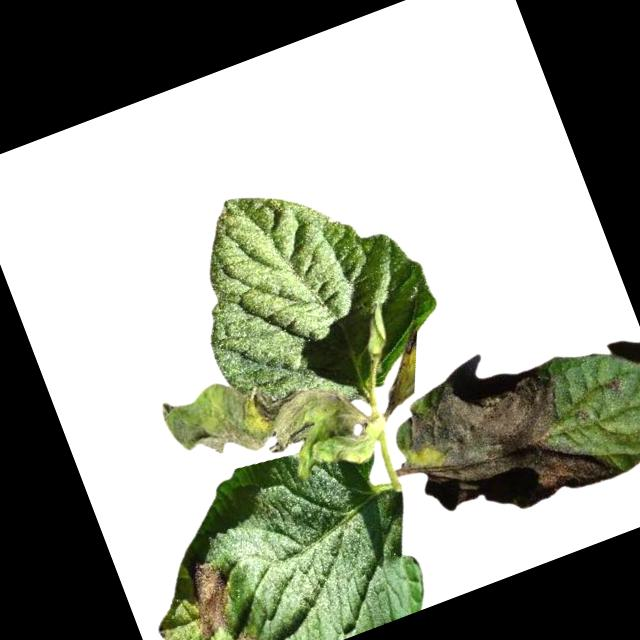Late_blight: (382, 321, 621, 542), (154, 337, 383, 526), (171, 552, 244, 640), (213, 624, 274, 640), (601, 372, 624, 395)
healthy: (162, 142, 456, 437)
